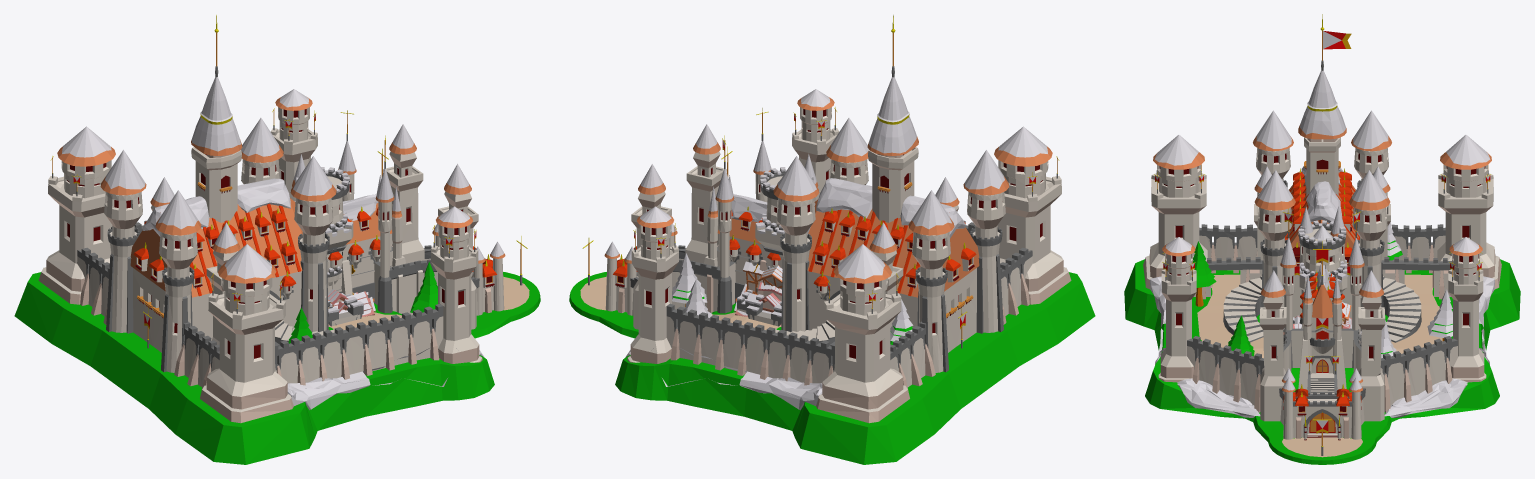
The model's file is medieval.glb.
3 renders of one model, left to right at view 1: azimuth 30°, elevation 25°; view 2: azimuth 150°, elevation 25°; view 3: azimuth 270°, elevation 25°, orthographic. The views are drawn at different scales.
Visible parts, largest first — view 1: castle, tower2, tower1; view 2: castle, house1, tower2, tower1, wall_stairs; view 3: castle, tower2, tower1.
Boxes of the visible parts, x1,y1,x2,y2 form: castle: (14,15,540,464); tower2: (296,167,349,293); tower1: (325,218,353,293); castle: (569,15,1095,464); house1: (740,261,782,295); tower2: (760,167,813,227); tower1: (755,218,784,269); wall_stairs: (737,289,781,326); castle: (1124,14,1520,464); tower2: (1298,220,1346,273); tower1: (1299,259,1347,295).
Size of the model in its own units: 38 by 30.32 by 34.79.
